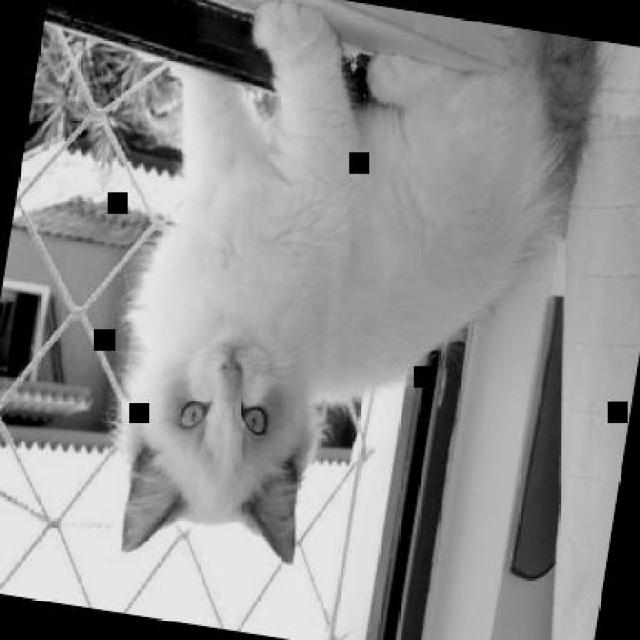cat: (89, 0, 595, 615)
